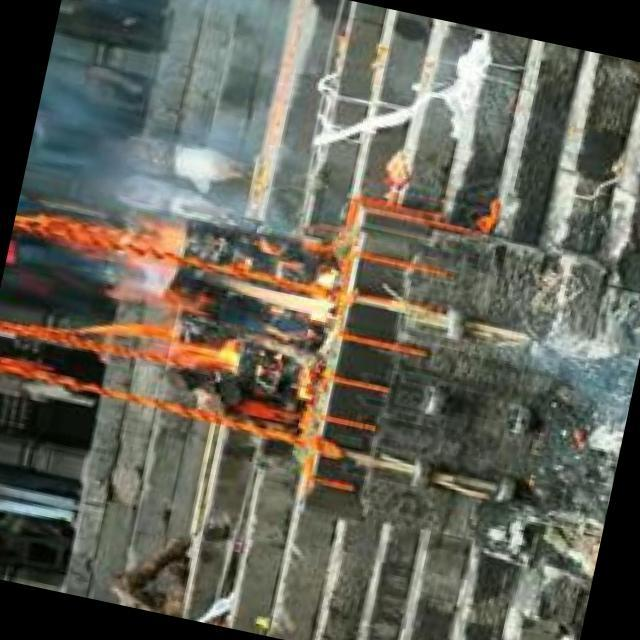Fire: (76, 223, 348, 405)
